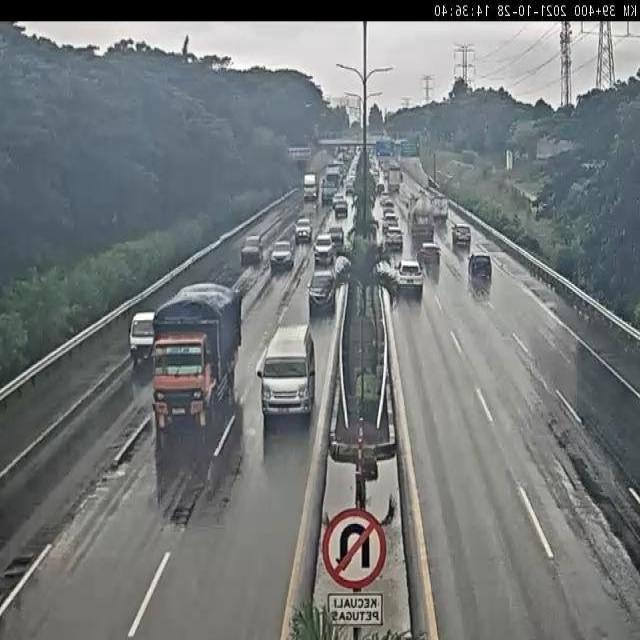Car: (128, 310, 156, 364), (307, 271, 337, 314), (394, 258, 424, 294), (270, 240, 294, 271), (467, 253, 493, 279), (314, 234, 336, 264), (417, 242, 441, 266), (242, 236, 262, 262), (450, 224, 472, 247), (384, 227, 404, 250), (295, 218, 313, 242), (381, 213, 400, 232), (334, 199, 350, 218), (328, 226, 343, 243)
Truck: (151, 282, 243, 433), (406, 190, 435, 242), (432, 193, 450, 225), (386, 166, 403, 193), (302, 172, 318, 200)
Van: (257, 324, 316, 424)
